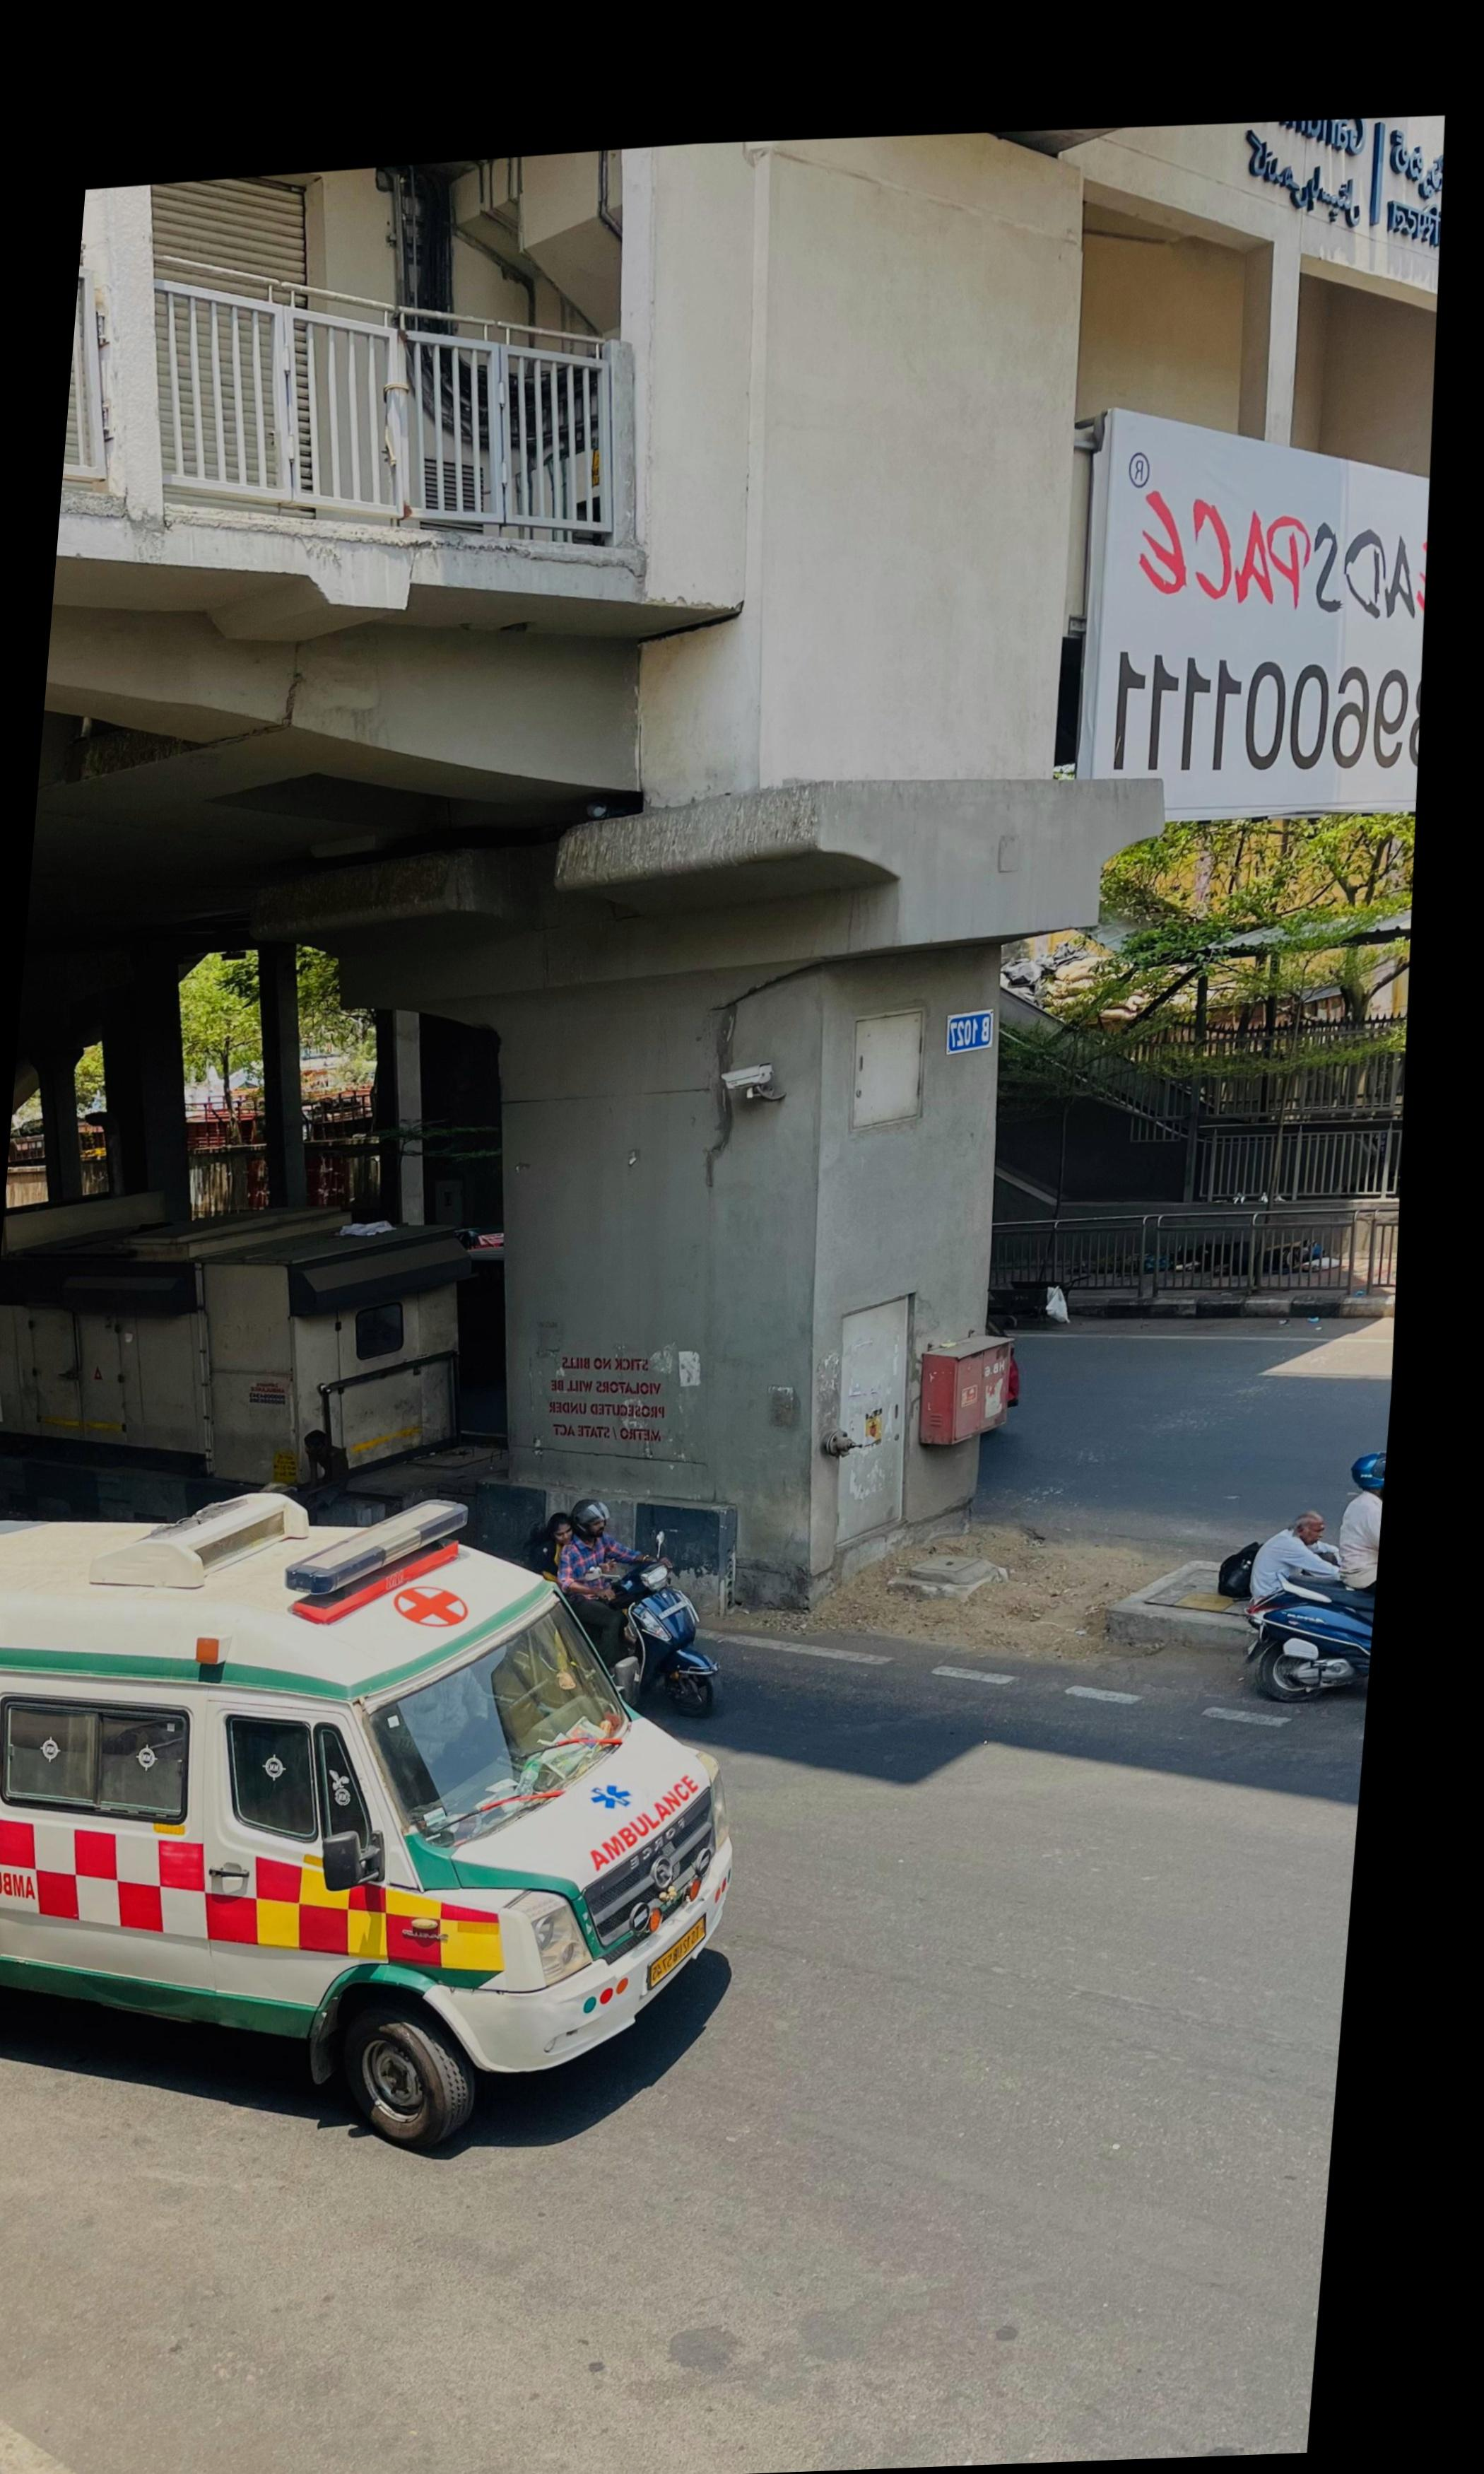ambulance: (0, 1495, 728, 2165)
